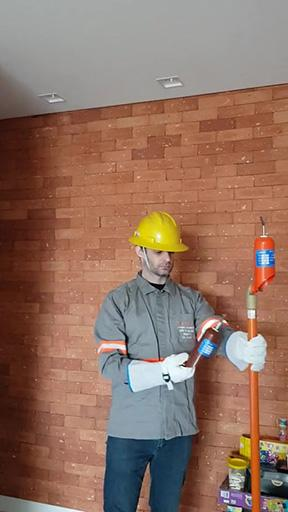Detector_Tensao_Contato: (183, 311, 229, 372), (251, 213, 276, 297)
Vara_Manobra: (243, 289, 264, 512)
